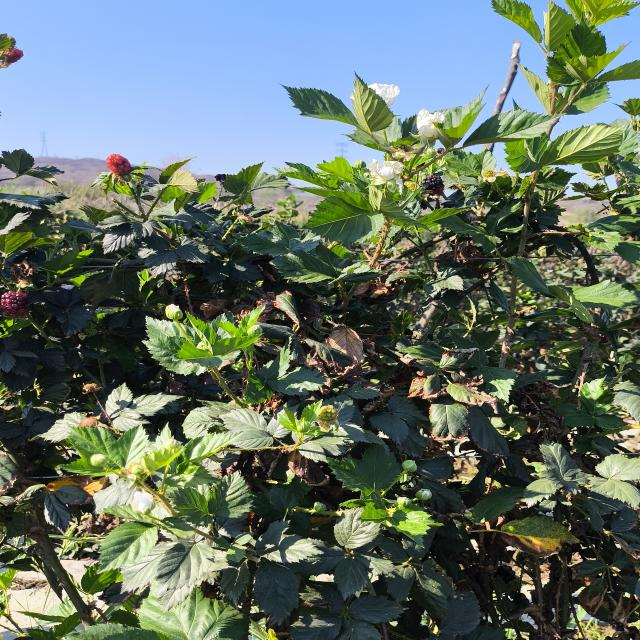boton: (165, 304, 183, 320), (90, 454, 110, 467), (396, 497, 413, 508), (402, 460, 417, 472), (416, 489, 432, 500)
flor: (369, 160, 404, 193), (416, 109, 444, 138), (368, 83, 400, 108)
maduro: (420, 174, 444, 195)
marron: (0, 291, 28, 318)
naranja: (106, 154, 132, 176)
verde: (318, 405, 337, 431)
